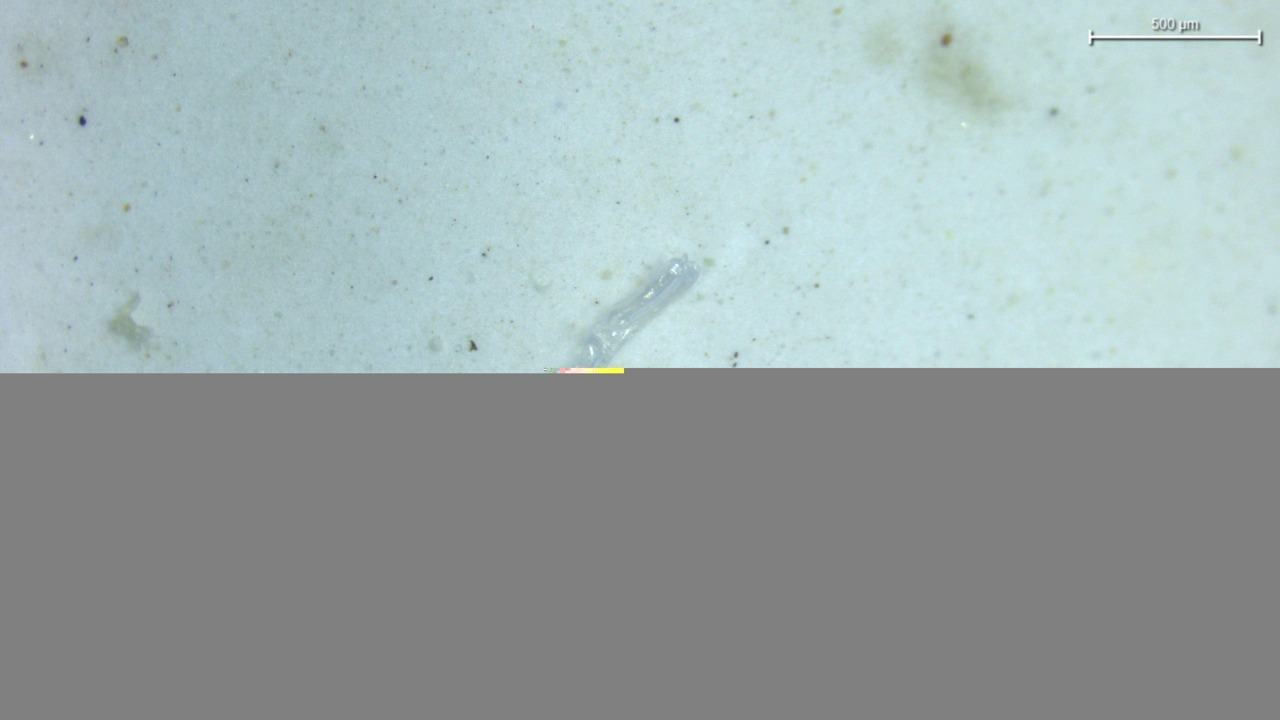microplastic_fragment: (553, 257, 699, 373)
